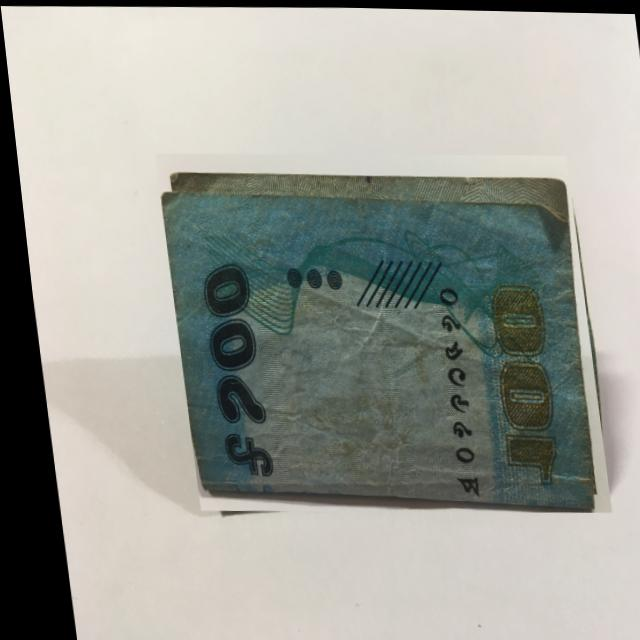Taka: (151, 145, 600, 517)
